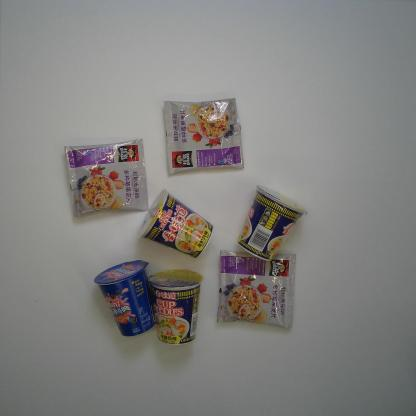Dessert: (93, 259, 156, 338)
Instant Drink: (64, 138, 150, 218), (216, 250, 297, 331), (162, 97, 245, 175)
Instant Noodles: (236, 184, 308, 262), (136, 188, 214, 259), (148, 267, 204, 346)
